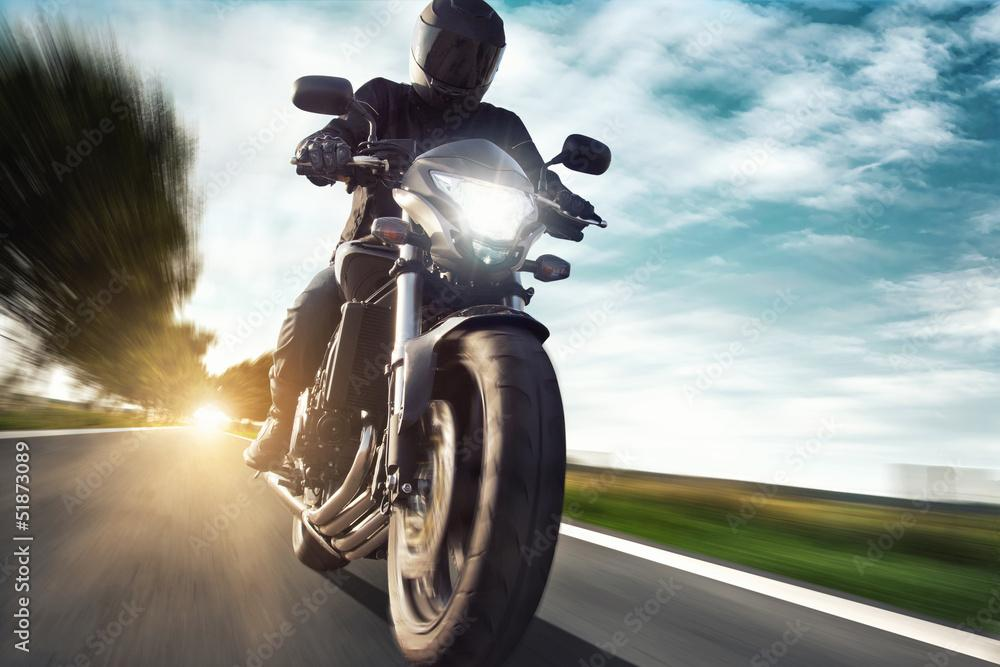helmet: (408, 0, 507, 117)
